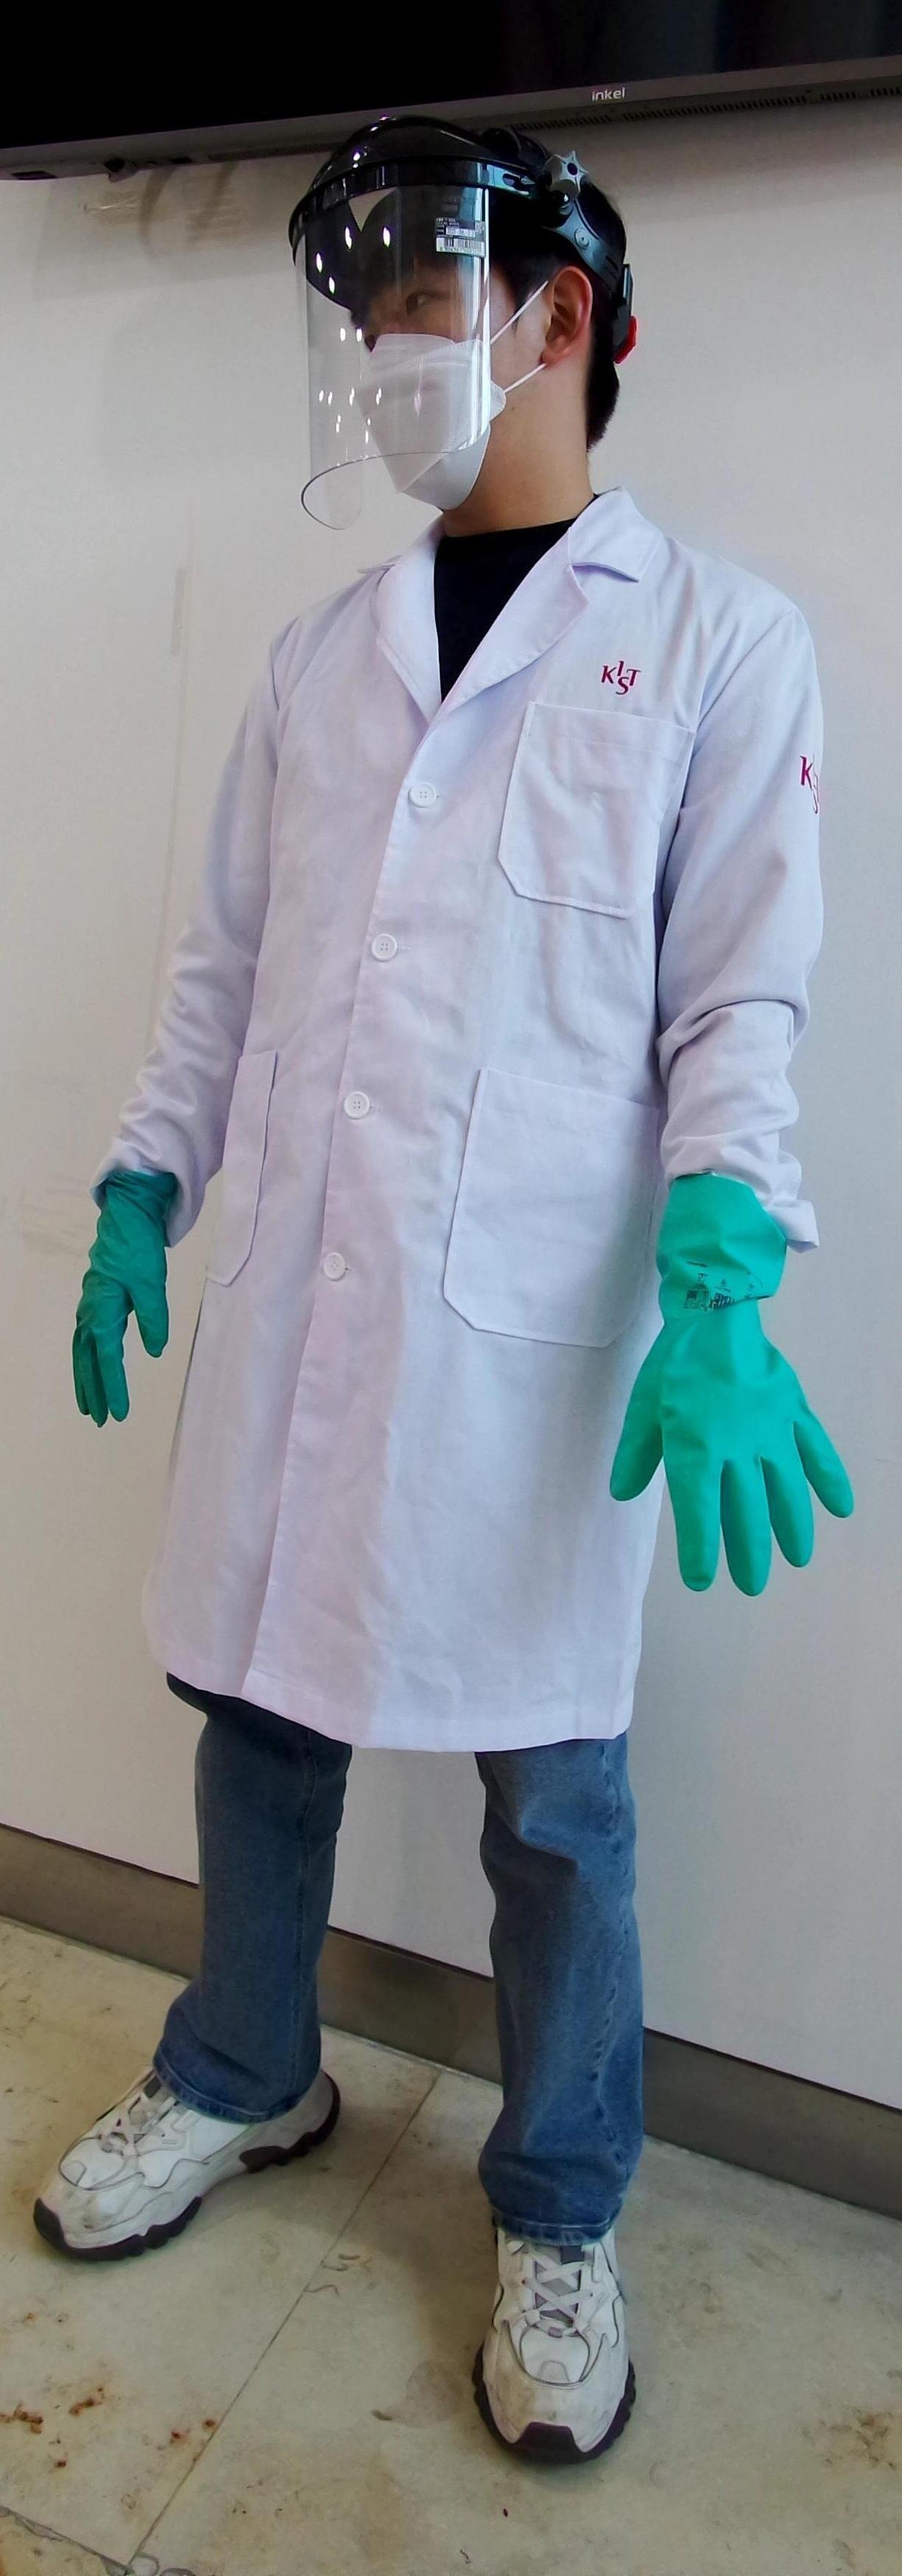lab_coat: (200, 568, 629, 1694)
